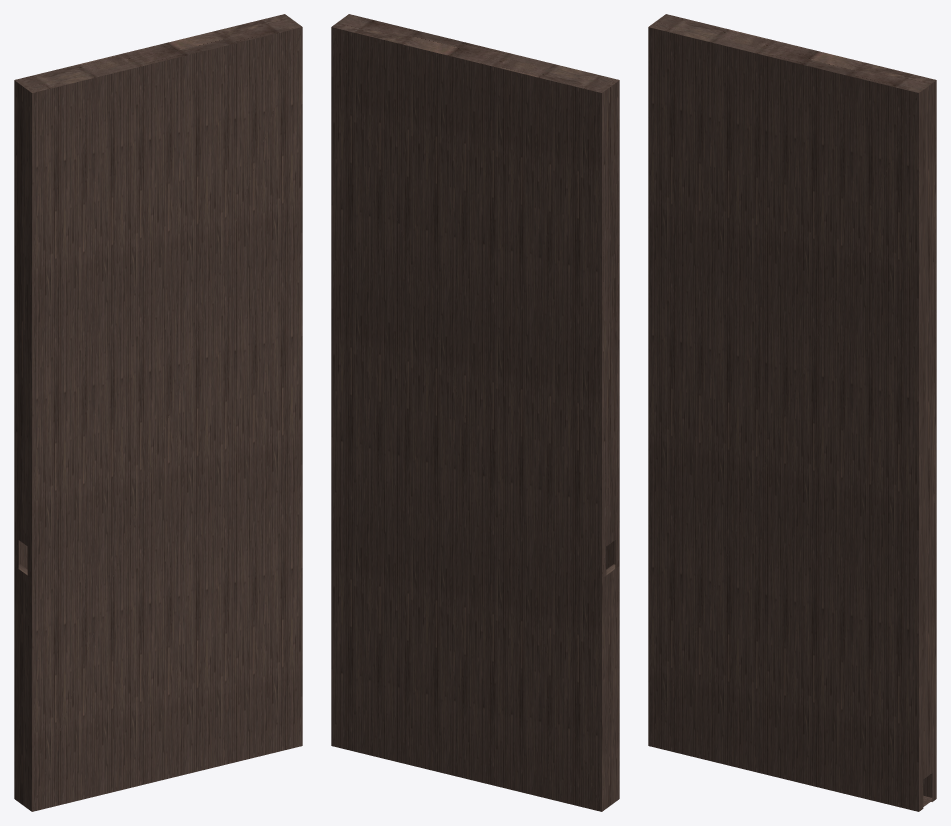
Rendered from stairs.fbx.
3 views of the same model, side by side, from view 1: azimuth 30°, elevation 25°; view 2: azimuth 150°, elevation 25°; view 3: azimuth 330°, elevation 25° (orthographic).
Visible parts, largest first — view 1: Cube; view 2: Cube; view 3: Cube.
Boxes of the visible parts, x1,y1,x2,y2 form: Cube: (14,14,302,811); Cube: (331,14,619,811); Cube: (648,14,936,811).
Size of the model in its own units: 1750 by 4440 by 200.
